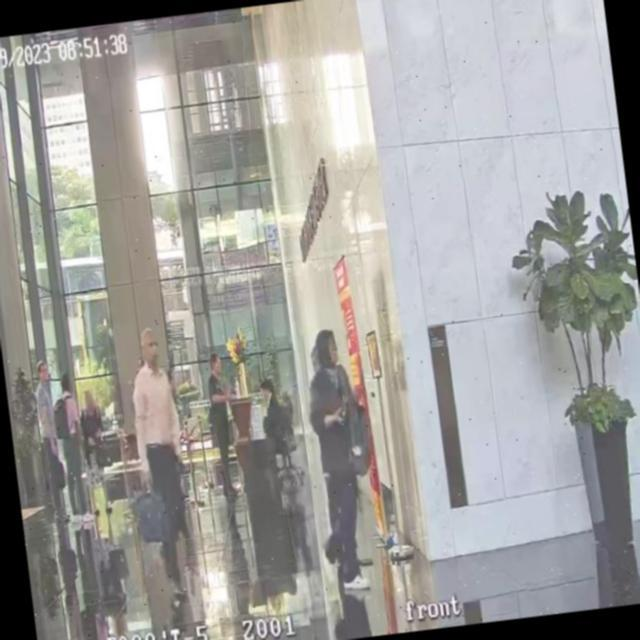person: (298, 326, 381, 588), (122, 324, 199, 590), (47, 371, 92, 523), (31, 361, 72, 524), (202, 348, 242, 498), (256, 374, 288, 451), (77, 388, 107, 457)
